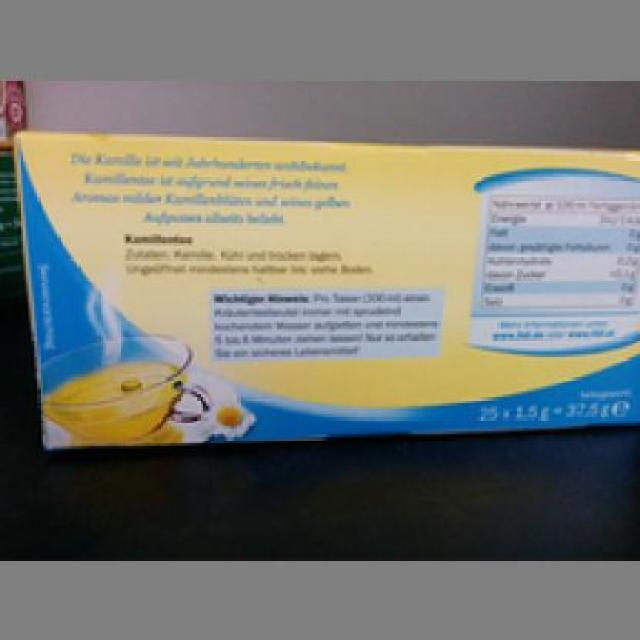Tea: (12, 126, 638, 454)
